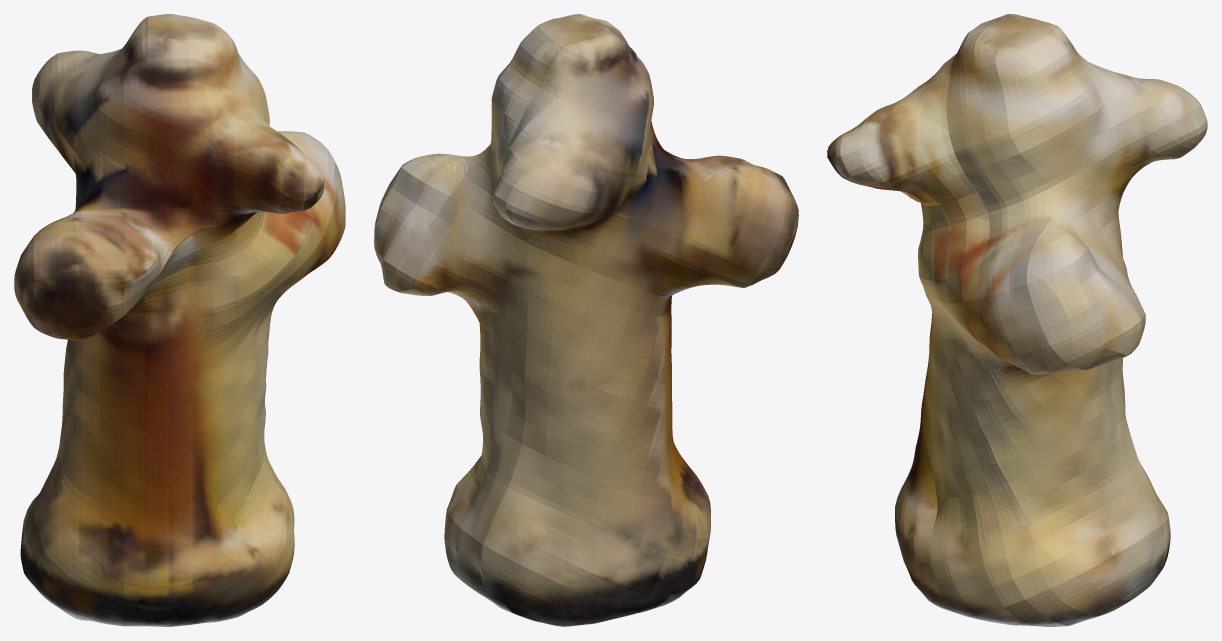
3 views of the same model, side by side, from view 1: azimuth 30°, elevation 25°; view 2: azimuth 150°, elevation 25°; view 3: azimuth 270°, elevation 25° (orthographic). The views are drawn at different scales.
Parts seen in each view (by area): view 1: mesh_00215000_gradio_lod0.ply; view 2: mesh_00215000_gradio_lod0.ply; view 3: mesh_00215000_gradio_lod0.ply.
Part boxes in pixels (x1,y1,x2,y2): mesh_00215000_gradio_lod0.ply: (14, 14, 345, 626); mesh_00215000_gradio_lod0.ply: (374, 14, 798, 626); mesh_00215000_gradio_lod0.ply: (827, 14, 1207, 626).
Bounding box in the file's own units: 0.5632 × 0.8356 × 0.5026.
